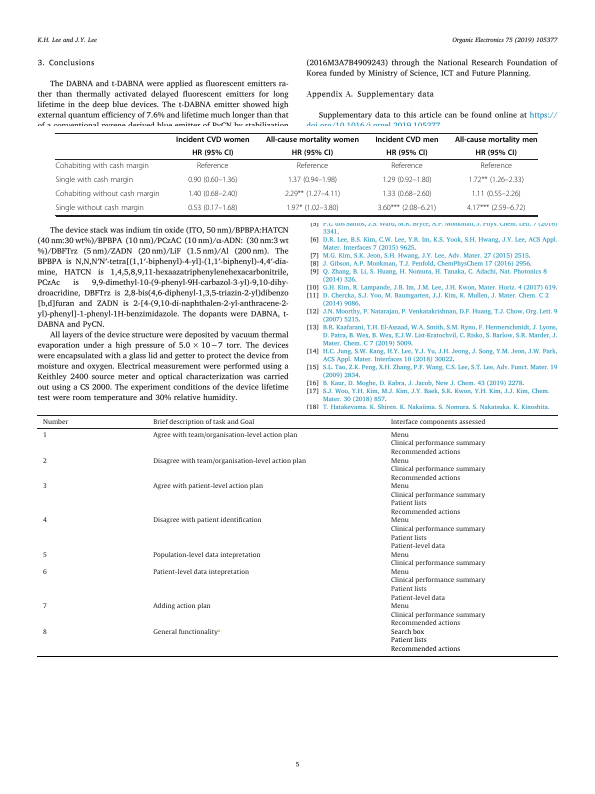borderless: (36, 414, 558, 656), (54, 131, 537, 215)
cell: (389, 483, 485, 517), (389, 517, 485, 551), (389, 569, 485, 603), (389, 457, 485, 483), (389, 432, 485, 457), (389, 603, 485, 628), (389, 629, 461, 654), (389, 551, 485, 568), (152, 457, 306, 466), (152, 432, 298, 440), (54, 189, 160, 199), (152, 517, 262, 526), (152, 551, 261, 560), (54, 161, 150, 171), (152, 418, 255, 427), (55, 203, 145, 213), (152, 483, 263, 491), (389, 418, 486, 427), (265, 135, 360, 144), (54, 175, 134, 185), (152, 569, 249, 577), (454, 135, 538, 144), (175, 135, 250, 144), (152, 628, 221, 637), (377, 203, 437, 213), (466, 203, 526, 213), (374, 135, 439, 144), (468, 175, 525, 185), (284, 189, 341, 199), (285, 203, 339, 213), (187, 175, 238, 185), (287, 175, 338, 185), (381, 175, 432, 185), (187, 189, 238, 199), (381, 189, 432, 199), (471, 189, 522, 199), (187, 203, 238, 213), (152, 603, 211, 611), (191, 148, 234, 158), (291, 148, 334, 158), (385, 148, 428, 158), (475, 148, 518, 158), (390, 161, 424, 171), (479, 161, 513, 171), (196, 161, 229, 171), (296, 161, 329, 171), (41, 418, 69, 427), (41, 457, 47, 466), (41, 517, 47, 526), (41, 551, 47, 560), (41, 432, 47, 440), (41, 483, 47, 491), (41, 569, 47, 577), (41, 603, 47, 611), (41, 629, 47, 637)
